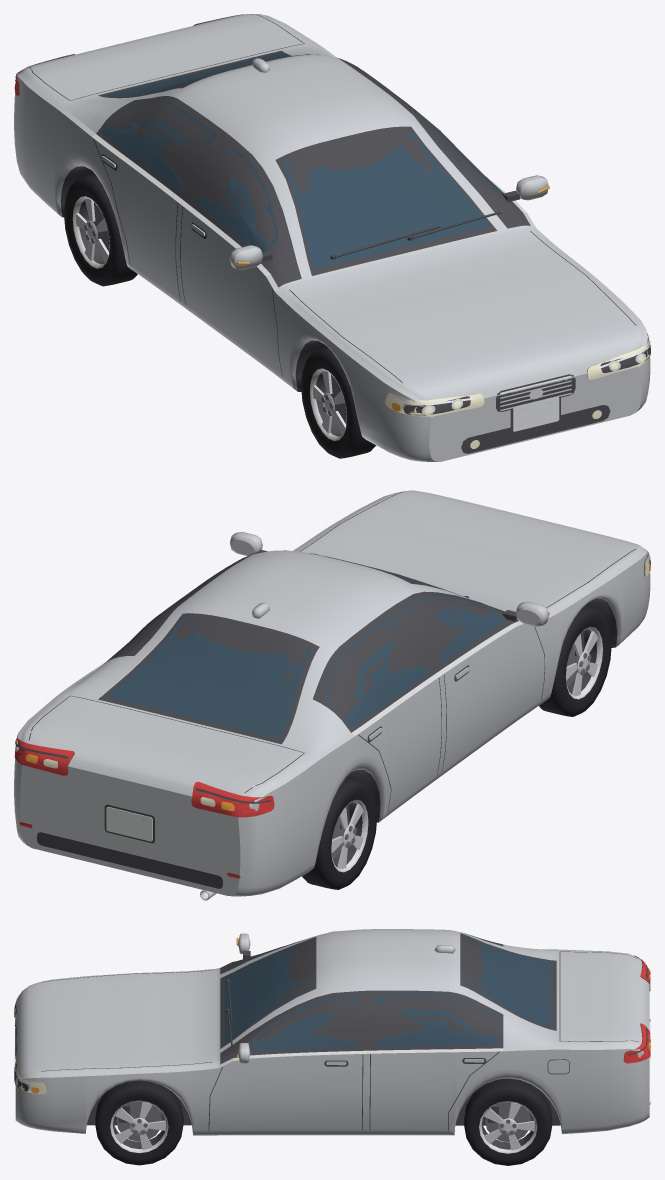
File: 9_close.fbx
The picture shows the model from 3 angles, top to bottom: view 1: azimuth 30°, elevation 25°; view 2: azimuth 150°, elevation 25°; view 3: azimuth 270°, elevation 25°; orthographic projection. The views are drawn at different scales.
Parts seen in each view (by area): view 1: 10_9_close; view 2: 10_9_close; view 3: 10_9_close.
Part boxes in pixels (x1,y1,x2,y2): 10_9_close: (14,14,650,461); 10_9_close: (14,490,650,900); 10_9_close: (14,929,650,1165).
Size of the model in its own units: 2.25 by 1.51 by 5.04.
